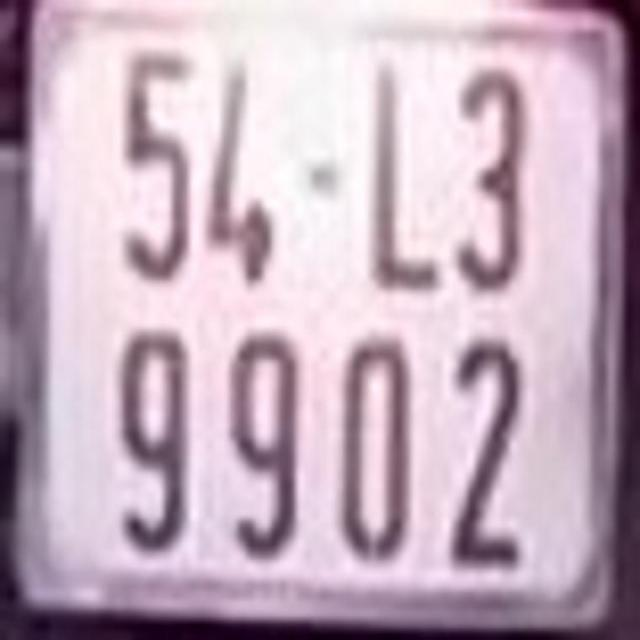0: (340, 328, 414, 568)
2: (446, 330, 526, 575)
3: (454, 48, 526, 298)
4: (201, 45, 275, 288)
5: (119, 44, 194, 284)
9: (114, 323, 193, 560), (228, 322, 298, 559)
L: (361, 47, 442, 298)
